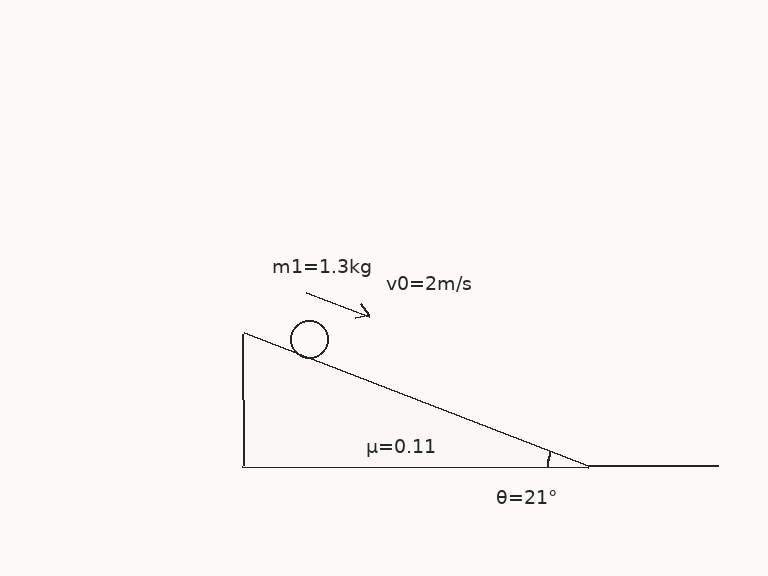ball: (288, 318, 330, 360)
ramp: (241, 331, 590, 468)
